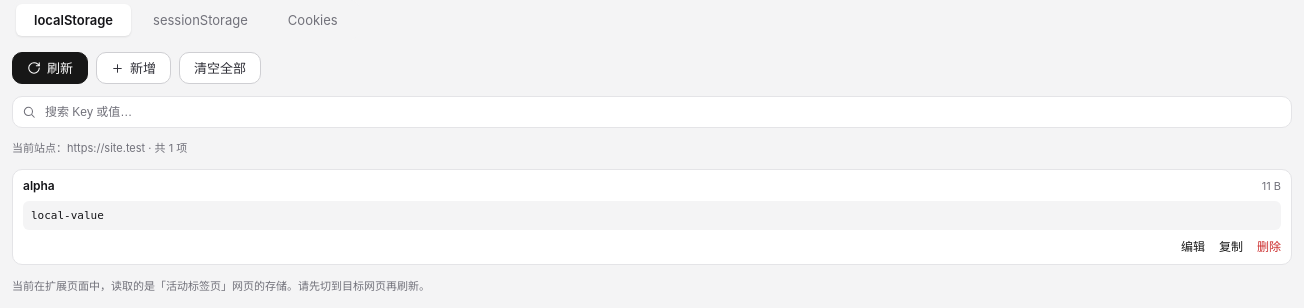
StorageTool 存储浏览 › 默认拉取 local，切到 session 时按区域重新请求并替换列表
Click the tab "sessionStorage". click: (200, 20)
box: [135,4,266,36]
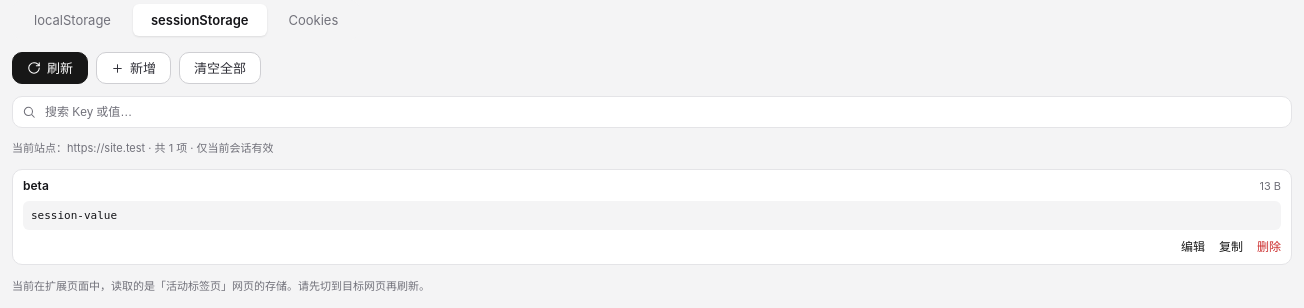
Expected: the text "session-value" is shown, [23,200,1281,230]
Expected: the text "alpha" is gone
